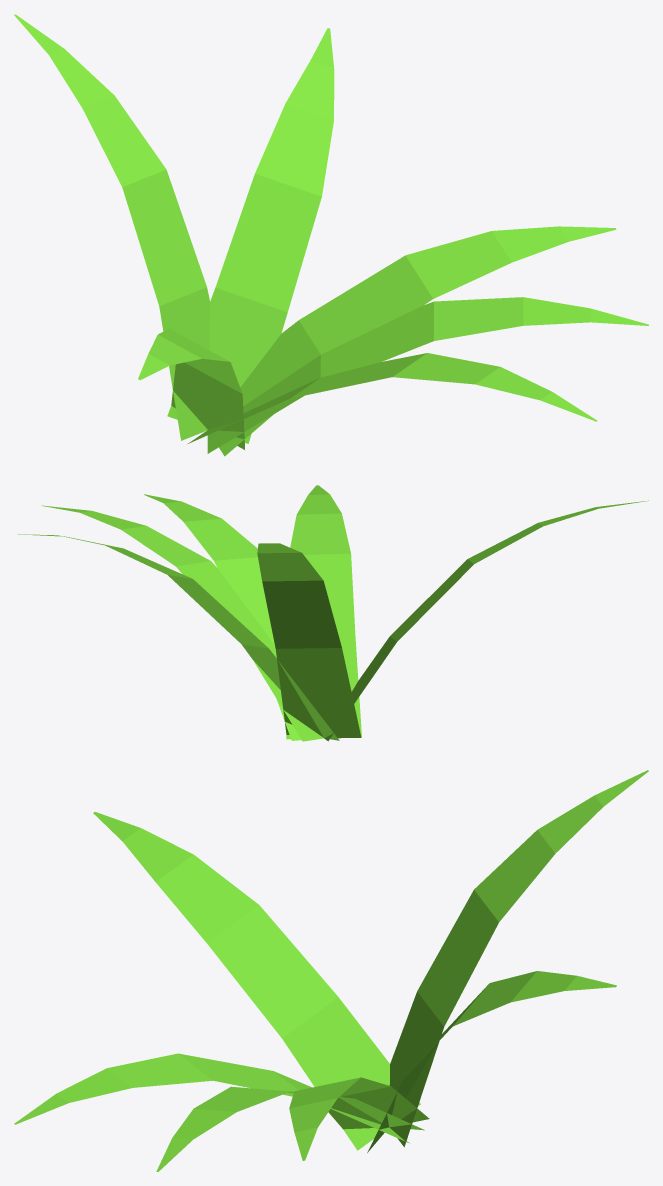
File: grass-006.glb
3 views of the same model, one above another, from view 1: azimuth 30°, elevation 25°; view 2: azimuth 150°, elevation 25°; view 3: azimuth 270°, elevation 25° (orthographic). The views are drawn at different scales.
Parts seen in each view (by area): view 1: grass 4_58; view 2: grass 4_58; view 3: grass 4_58.
Part boxes in pixels (left/top/right/bottom): grass 4_58: left=14, top=14, right=648, bottom=456; grass 4_58: left=18, top=485, right=648, bottom=741; grass 4_58: left=14, top=770, right=648, bottom=1171.
Bounding box in the file's own units: 0.7953 × 0.4513 × 0.7617.
